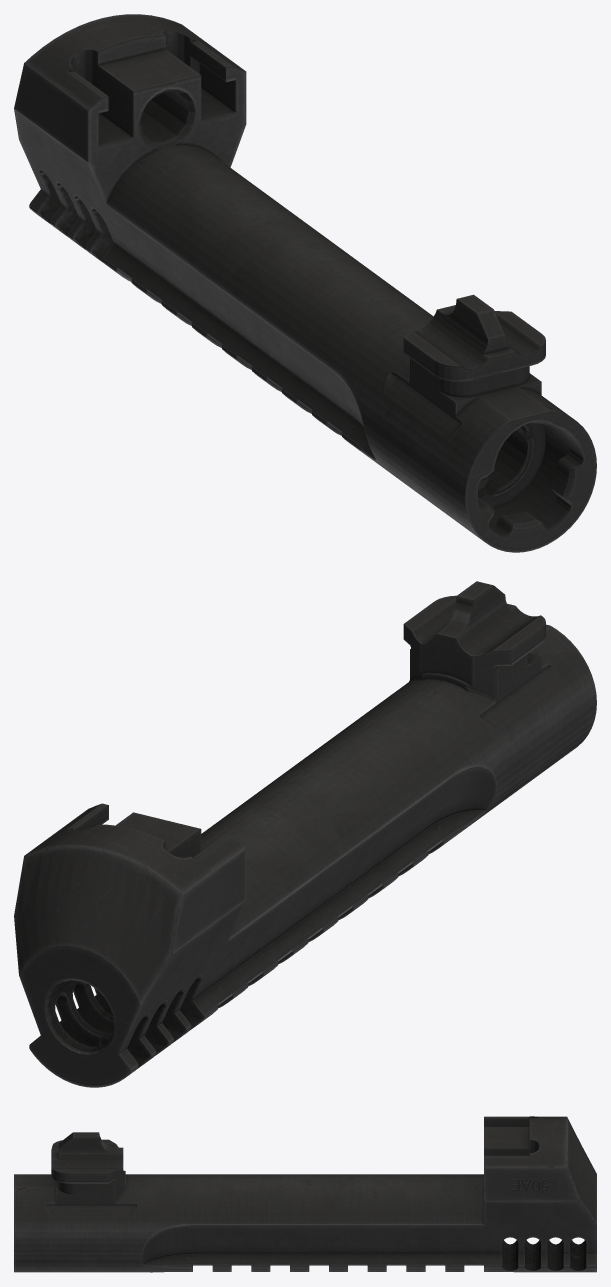
The picture shows the model from 3 angles, top to bottom: view 1: azimuth 30°, elevation 25°; view 2: azimuth 150°, elevation 25°; view 3: azimuth 270°, elevation 25°; orthographic projection. The views are drawn at different scales.
Parts seen in each view (by area): view 1: TW_669fa47da0bab4e8510d9526_PZ_Import; view 2: TW_669fa47da0bab4e8510d9526_PZ_Import; view 3: TW_669fa47da0bab4e8510d9526_PZ_Import.
Boxes of the visible parts, x1=… form: TW_669fa47da0bab4e8510d9526_PZ_Import: x1=14, y1=14, x2=596, y2=552; TW_669fa47da0bab4e8510d9526_PZ_Import: x1=14, y1=581, x2=596, y2=1087; TW_669fa47da0bab4e8510d9526_PZ_Import: x1=14, y1=1116, x2=596, y2=1272.
Size of the model in its own units: 0.0191 by 0.0943 by 0.0253.
1 material, 1 textured.
